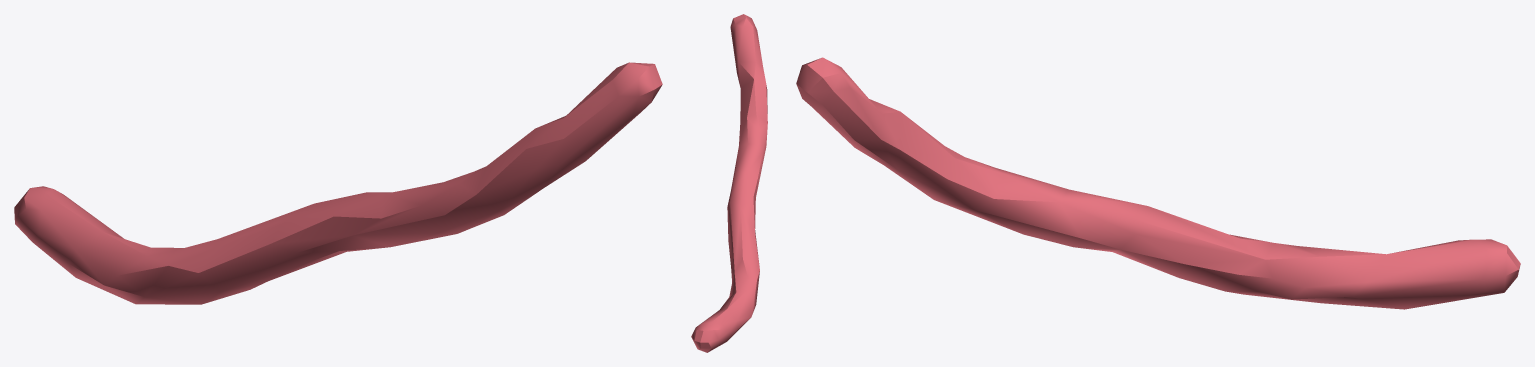
Rendered from fma3837_fj2716.glb.
3 renders of one model, left to right at view 1: azimuth 30°, elevation 25°; view 2: azimuth 150°, elevation 25°; view 3: azimuth 270°, elevation 25°, orthographic. The views are drawn at different scales.
Visible parts, largest first — view 1: FMA3837_FJ2716; view 2: FMA3837_FJ2716; view 3: FMA3837_FJ2716.
Boxes of the visible parts, x1,y1,x2,y2 form: FMA3837_FJ2716: [14, 62, 662, 304]; FMA3837_FJ2716: [691, 14, 767, 352]; FMA3837_FJ2716: [796, 57, 1520, 309].
Bounding box in the file's own units: 0.00453 × 0.00523 × 0.0093.
